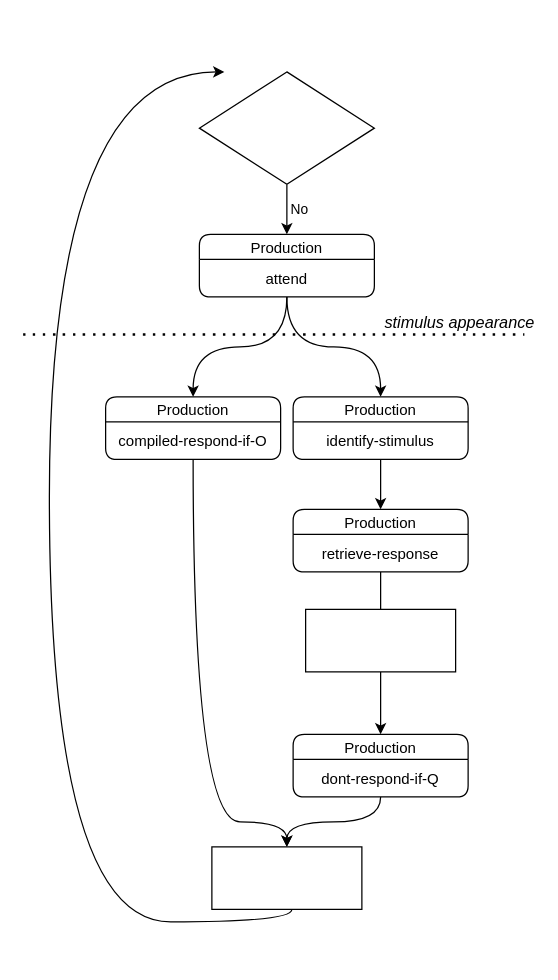
This 558x980 diagram has some shape labels left out. Each missing label, with the centre of its shape:
Attend utility < Wander utility: [286,127]
Negative Reward (to attend): [286,877]
Positive Reward (to attend): [380,640]
